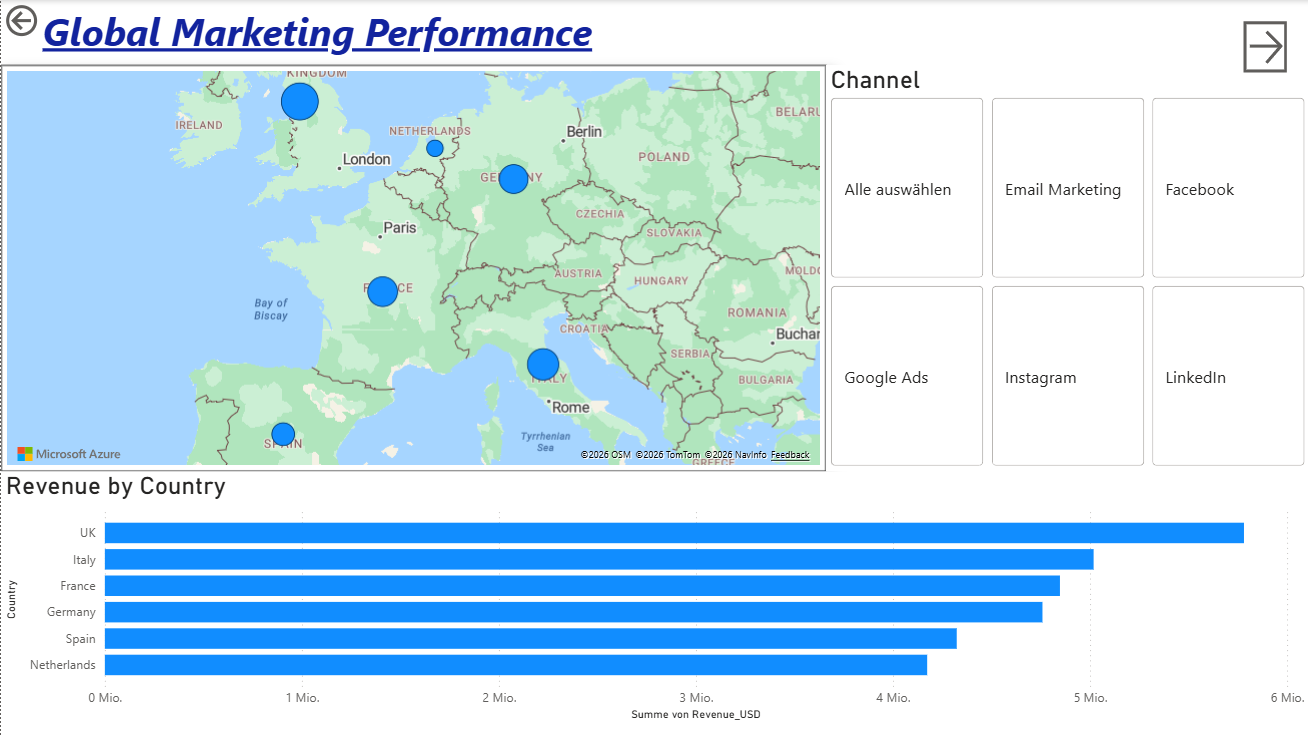

This screenshot's page, from the dashboard's own definition file:
{"tool":"powerbi","page":{"name":"Geographic Analysis","canvas":[1280,720],"ordinal":2},"visuals":[{"type":"textbox","box":[9.8,0,573.5,63.6],"z":0},{"type":"azureMap","fields":{"Category":["Marketing Campaign Data.Country"],"Size":["Sum(Marketing Campaign Data.Revenue_USD)"]},"box":[0,63.6,807.1,397.4],"z":1000},{"type":"barChart","title":"Revenue by Country","fields":{"Category":["Marketing Campaign Data.Country"],"Y":["Sum(Marketing Campaign Data.Revenue_USD)"]},"box":[0,461,1280.3,249.5],"z":2000},{"type":"advancedSlicerVisual","fields":{"Values":["Marketing Campaign Data.Channel"]},"box":[807.1,63.6,473.2,397.4],"z":3000},{"type":"actionButton","box":[0,0,41.6,40.4],"z":4000},{"type":"actionButton","box":[1215.5,20.8,42.8,50.1],"z":6000}]}

Visuals, with their boxes in screenshot pixels (x1, y1, x2, y2), scaled from the page's 1280x720 canvas onto the 1308x736 screenshot:
textbox: <bbox>10, 0, 596, 65</bbox>
azureMap - Marketing Campaign Data.Country x Sum(Marketing Campaign Data.Revenue_USD): <bbox>0, 65, 825, 471</bbox>
"Revenue by Country" barChart: <bbox>0, 471, 1307, 726</bbox>
advancedSlicerVisual - Marketing Campaign Data.Channel: <bbox>825, 65, 1307, 471</bbox>
actionButton: <bbox>0, 0, 43, 41</bbox>
actionButton: <bbox>1242, 21, 1286, 72</bbox>
